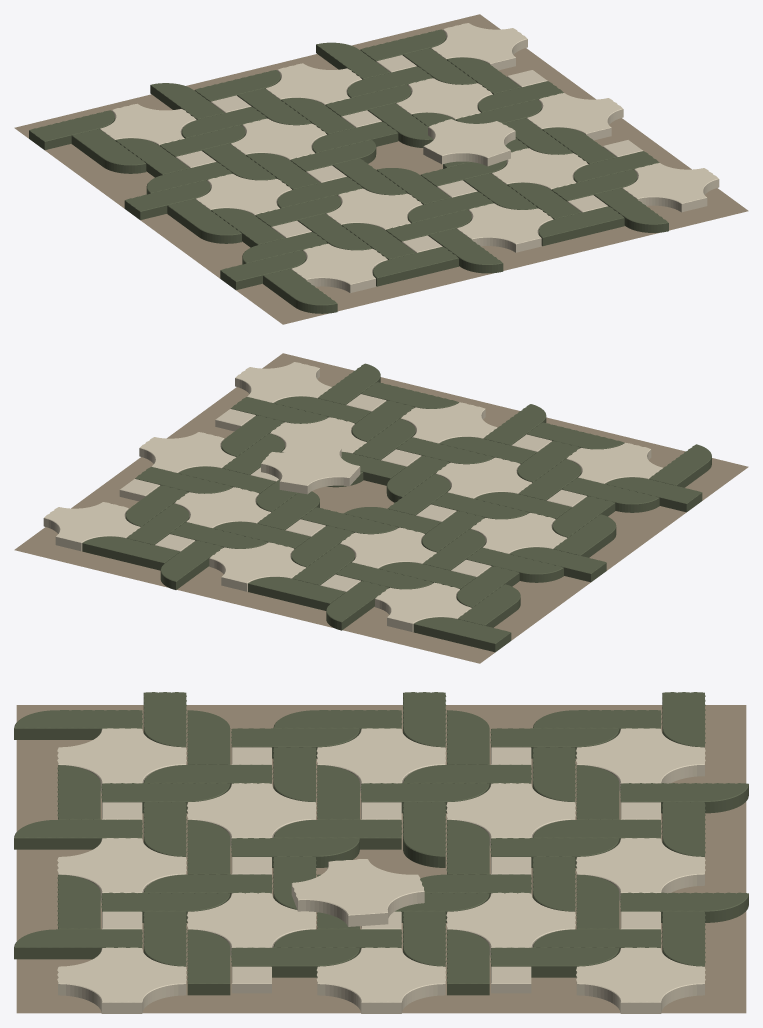
Rendered from terilgan.glb.
3 renders of one model, top to bottom at view 1: azimuth 30°, elevation 25°; view 2: azimuth 150°, elevation 25°; view 3: azimuth 270°, elevation 25°, orthographic. The views are drawn at different scales.
Parts seen in each view (by area): view 1: qum, t.052, t.062, t.034, t.009, t.073, t.074, t.046, t.022, t.040, t.069, t.063 (+50 smaller); view 2: qum, t.052, t.074, t.063, t.040, t.062, t.073, t.009, t.034, t.069, t.022, t.028 (+53 smaller); view 3: qum, t.052, t.062, t.074, t.073, t.040, t.063, t.009, t.022, t.069, t.046, t.058 (+62 smaller).
Part boxes in pixels (<box>): qum: <box>14,14,748,324</box>; t.052: <box>423,119,515,166</box>; t.062: <box>622,163,719,212</box>; t.034: <box>456,203,553,252</box>; t.009: <box>291,243,387,292</box>; t.073: <box>526,93,623,140</box>; t.074: <box>431,23,527,70</box>; t.046: <box>230,118,327,160</box>; t.022: <box>195,174,291,215</box>; t.040: <box>100,103,196,145</box>; t.069: <box>396,78,492,119</box>; t.063: <box>265,63,361,104</box>; qum: <box>14,353,748,663</box>; t.052: <box>261,444,360,494</box>; t.074: <box>43,502,140,551</box>; t.063: <box>209,542,306,591</box>; t.040: <box>375,582,471,631</box>; t.062: <box>235,362,331,402</box>; t.073: <box>139,432,236,472</box>; t.009: <box>566,442,662,483</box>; t.034: <box>400,402,497,443</box>; t.069: <box>174,487,271,528</box>; t.022: <box>471,513,567,553</box>; t.028: <box>435,457,532,498</box>; qum: <box>16,705,746,1013</box>; t.052: <box>291,859,424,926</box>; t.062: <box>57,947,186,1013</box>; t.074: <box>576,947,705,1013</box>; t.073: <box>316,947,446,1013</box>; t.040: <box>576,728,705,793</box>; t.063: <box>576,838,705,903</box>; t.009: <box>57,728,186,794</box>; t.022: <box>316,728,446,793</box>; t.069: <box>446,892,575,958</box>; t.046: <box>446,783,575,848</box>; t.058: <box>187,892,316,958</box>.
Bounding box in the file's own units: 1.67 × 0.062 × 1.67.
